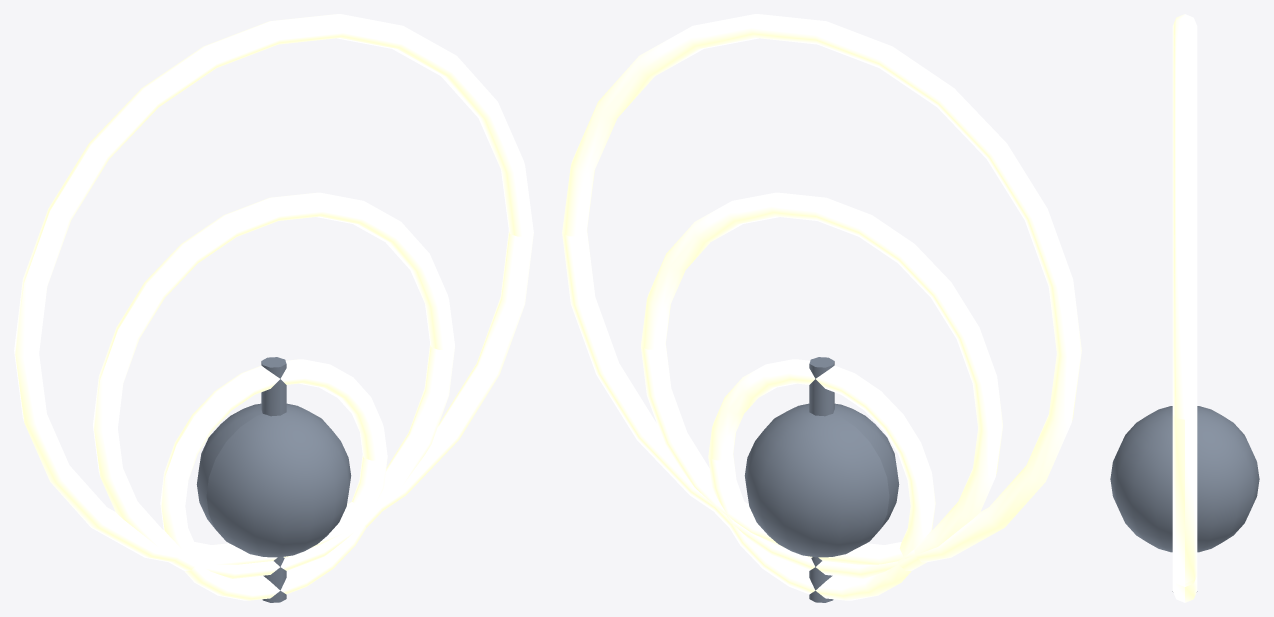
3 views of the same model, side by side, from view 1: azimuth 30°, elevation 25°; view 2: azimuth 150°, elevation 25°; view 3: azimuth 270°, elevation 25° (orthographic). The views are drawn at different scales.
Size of the model in its own units: 0.9201 by 0.98 by 0.24.
